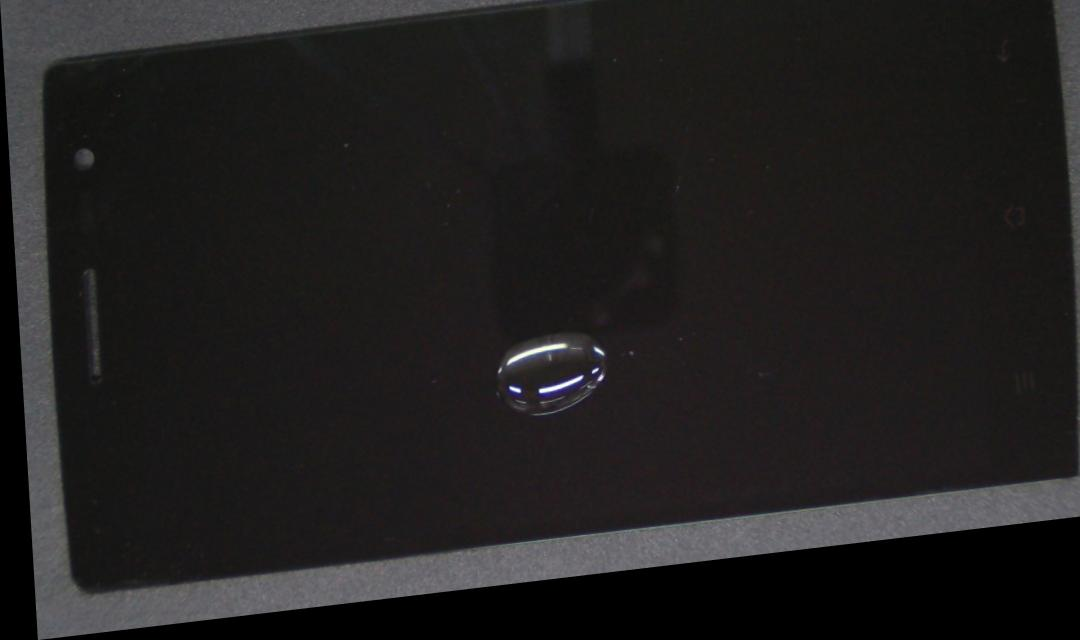oil: (469, 319, 629, 423)
